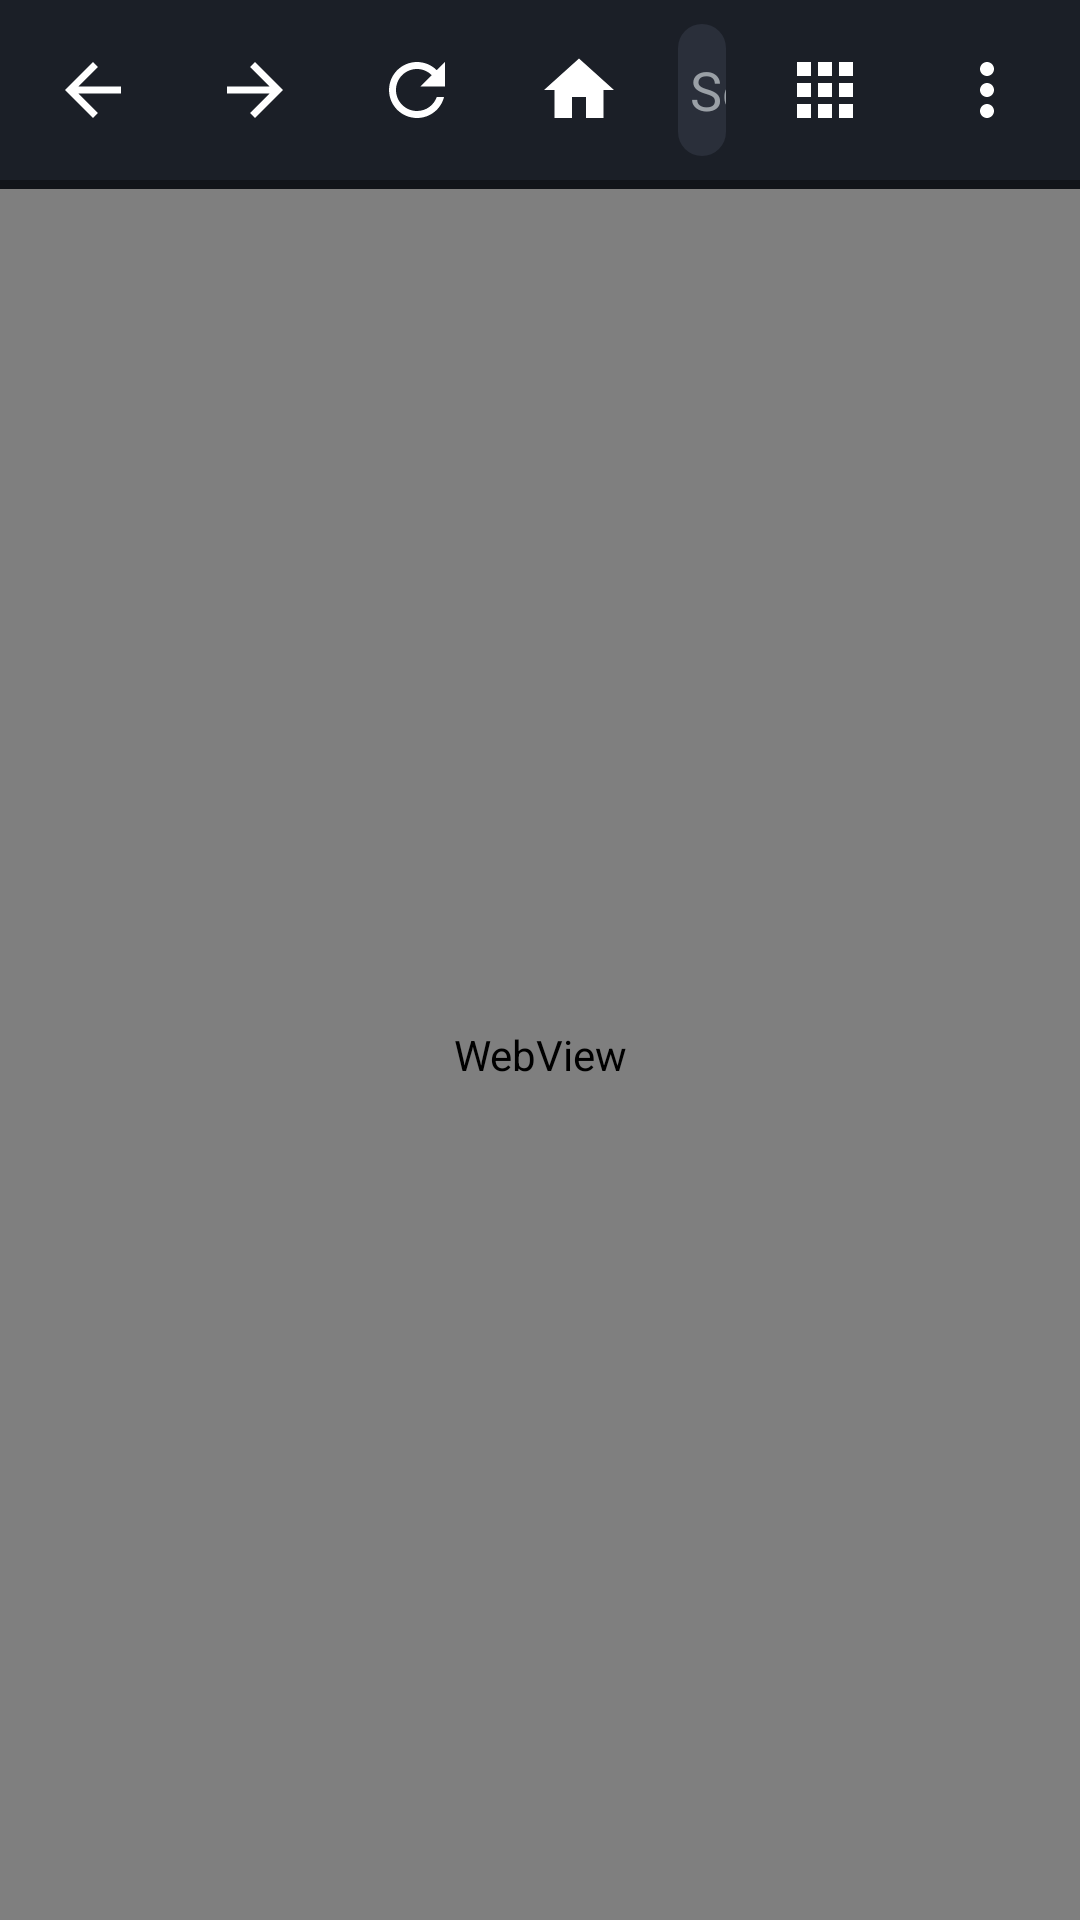

Icon bounding boxes for this 1080px×1920px phone screenshot, format (x1, y1, x2, y2):
Apps & settings: (797, 62, 853, 118)
Back: (65, 62, 121, 118)
Forward: (227, 62, 283, 118)
Home: (544, 58, 614, 118)
Menu: (980, 62, 994, 118)
Reload: (389, 62, 445, 118)
